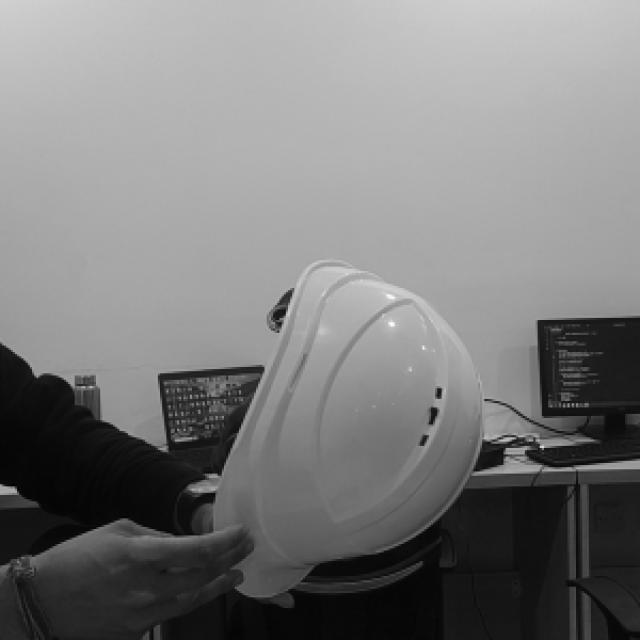safety_helmet: (216, 257, 482, 598)
